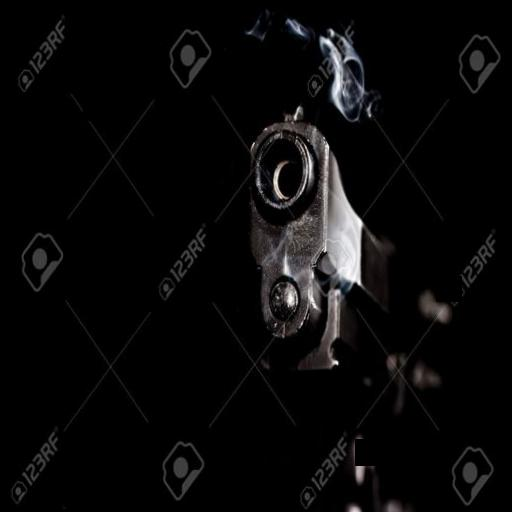Handgun: (234, 100, 470, 436)
